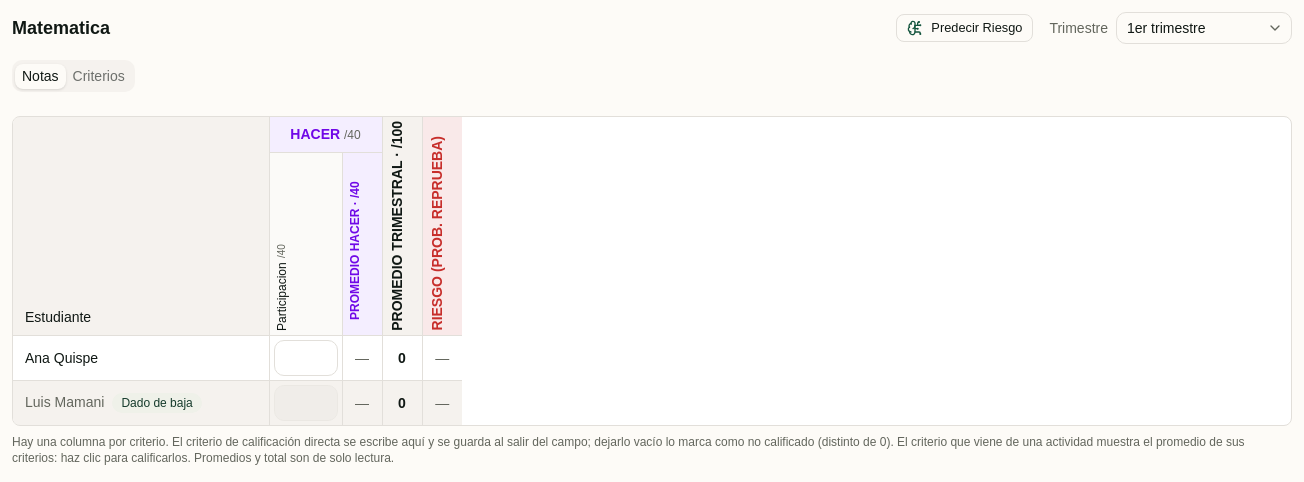
Test: SubjectScoreSheet, nota fuera del rango › avisa que la nota excede el límite y guarda el tope
Step 1. Type "999" into the 1st number field → (306, 358), box [274,340,338,376]
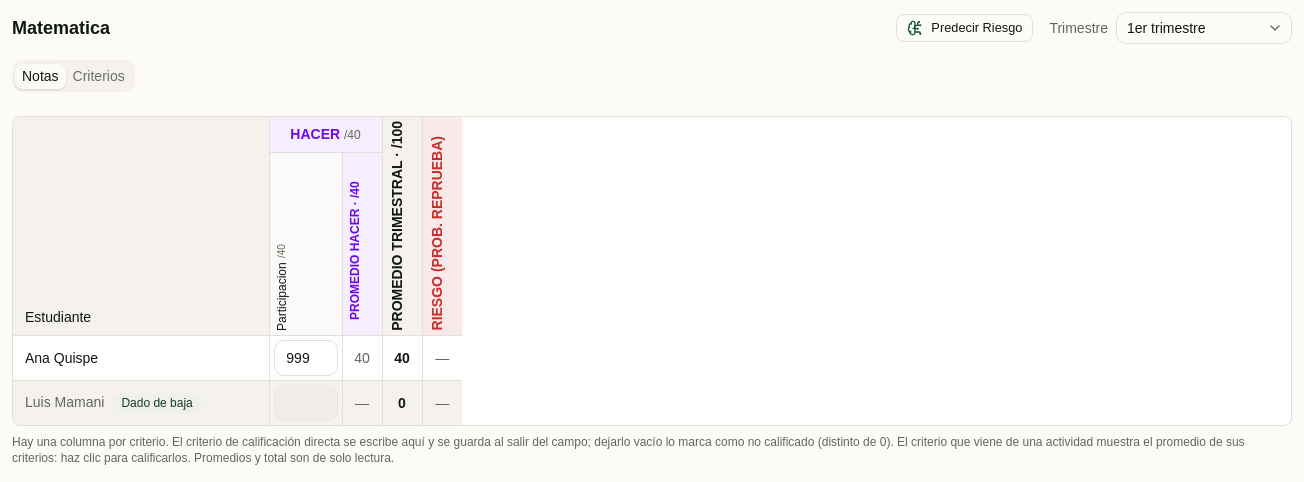
Step 2. Leave the 1st number field, box [274,340,338,376]
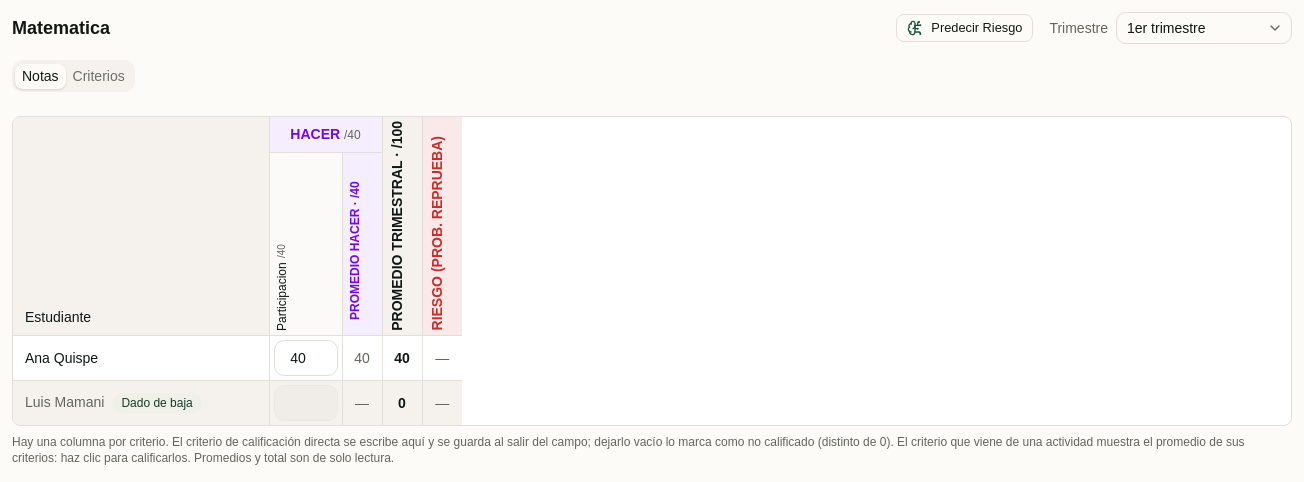
Result: the 1st number field holds "40" at [274,340,338,376]
